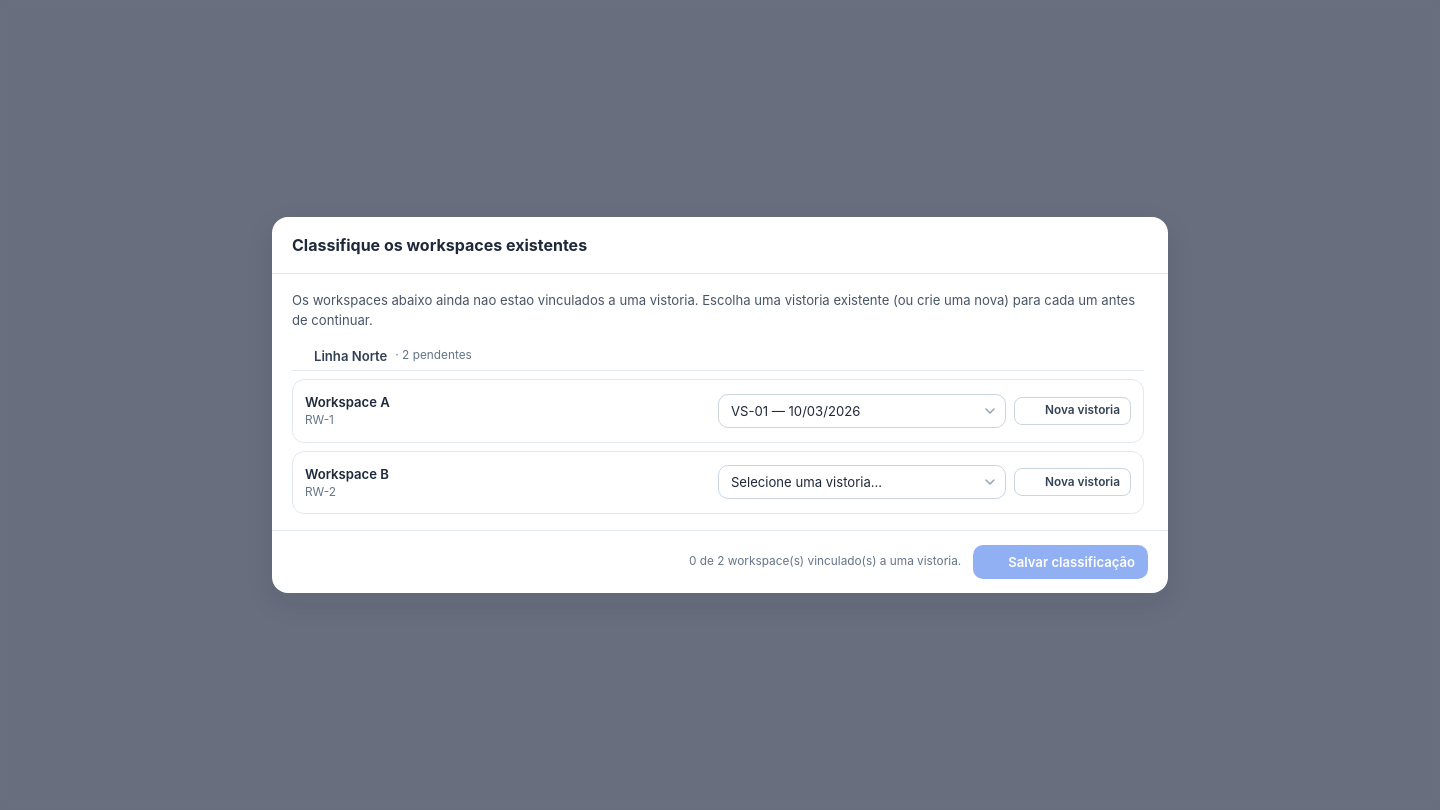
Scenario: UnclassifiedWorkspacesModal › habilita salvar apenas quando todos os workspaces tem vistoria atribuida
The width and height of the screenshot is (1440, 810).
Expected: the button "Salvar classificação" is disabled, [973,545,1148,579]
Select "VS-01 — 10/03/2026" in the dropdown with id "unclassified-select-RW-1" at x=862, y=411, box [718,394,1006,428]
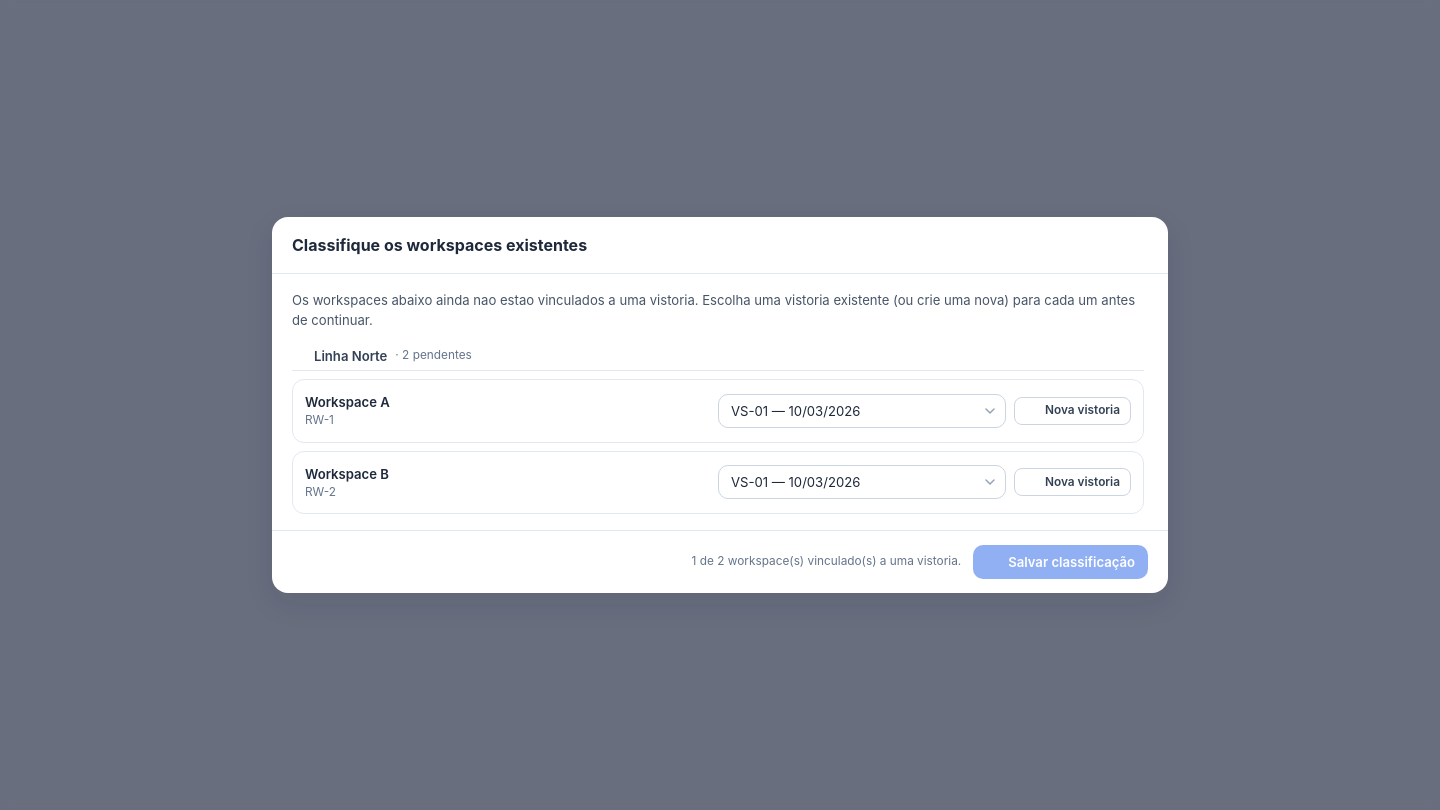
Expected: the button "Salvar classificação" is disabled, [973,545,1148,579]
Select "VS-01 — 10/03/2026" in the dropdown with id "unclassified-select-RW-2" at x=862, y=482, box [718,465,1006,499]
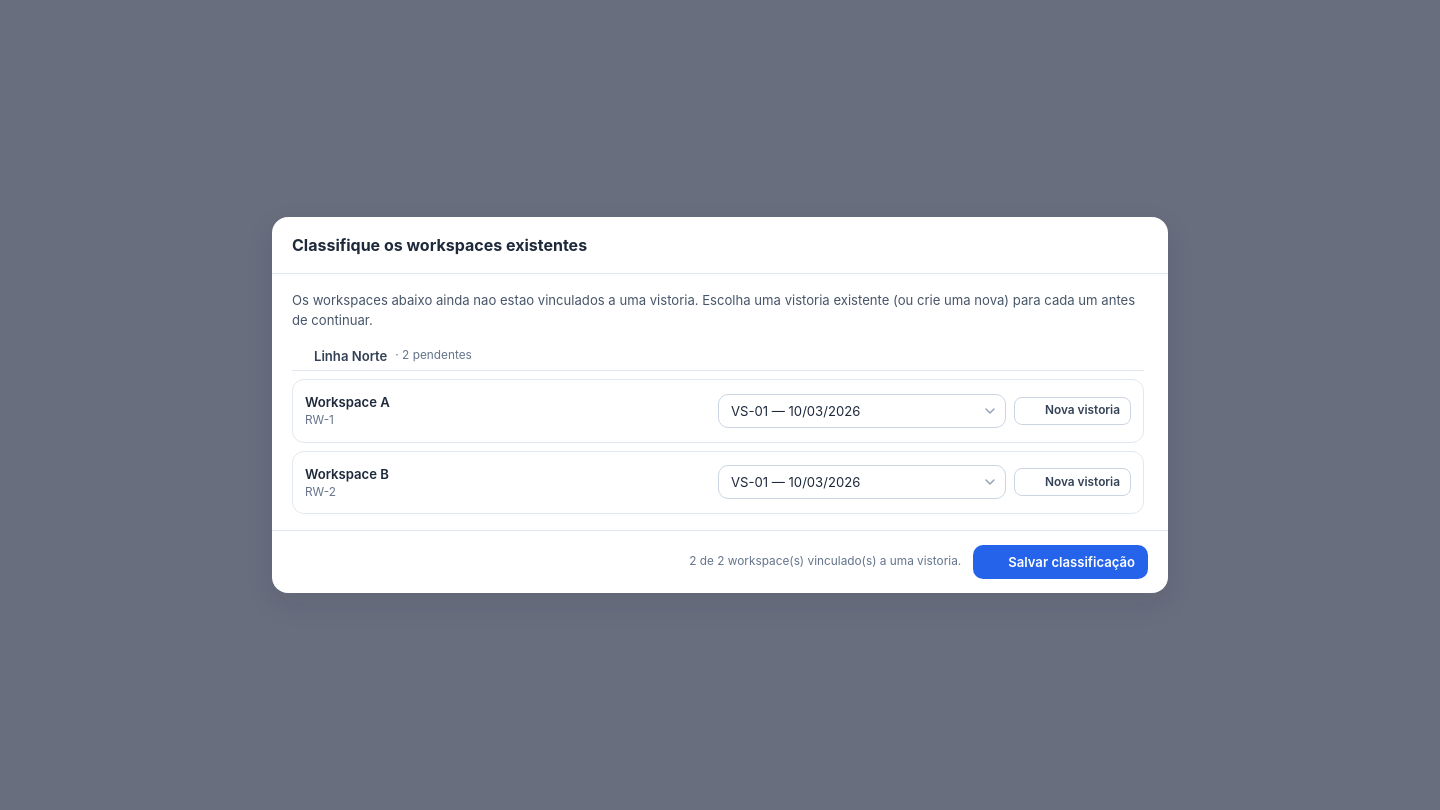
Expected: the button "Salvar classificação" is enabled, [973,545,1148,579]
